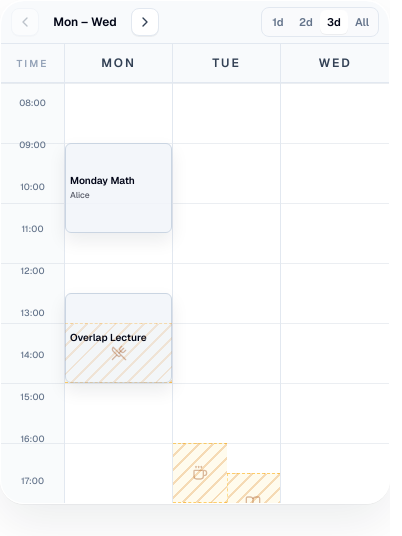
Test: WeekView mobile day controls › switches to 1-day view and steps day by day
This screenshot has width=402, height=536.
Click the button named "Show 1 day" at point(278, 22), box [264,10,292,34]
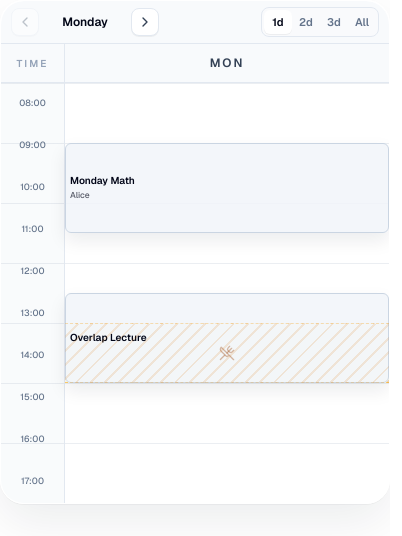
expect the button named "Previous days" is disabled: met, box [11,8,39,36]
expect the text "Monday" is shown: met, box [62,14,108,30]
Next day
Click the button named "Next days" at point(145, 22), box [131,8,159,36]
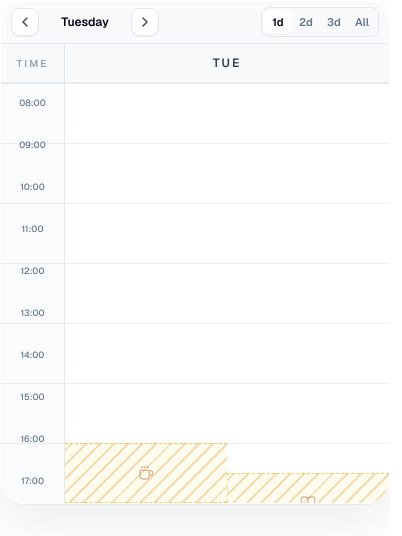
expect the button named "Previous days" is enabled: met, box [11,8,39,36]
expect the text "Tuesday" is shown: met, box [61,14,109,30]
Next day
Click the button named "Next days" at point(145, 22), box [131,8,159,36]
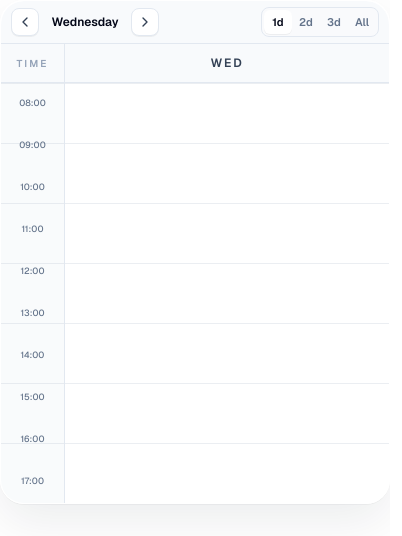
expect the text "Wednesday" is shown: met, box [51,14,118,30]
